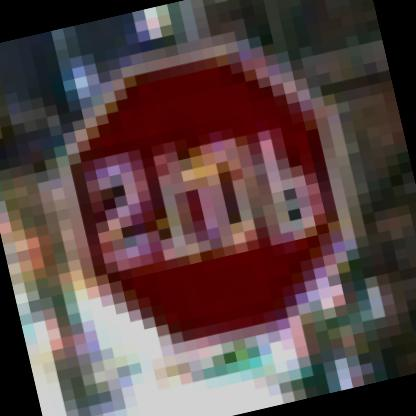stop: (26, 14, 390, 379)
